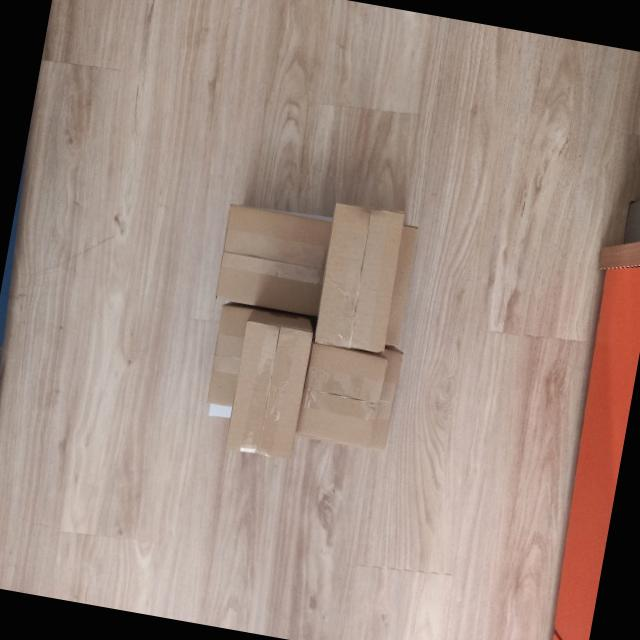box: (309, 198, 416, 358), (221, 305, 320, 464), (207, 198, 336, 320), (292, 339, 392, 452)
